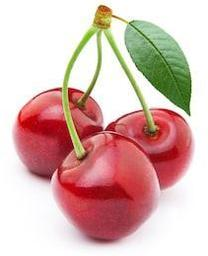cherry: (50, 131, 162, 240), (11, 87, 104, 178), (103, 108, 194, 191)
